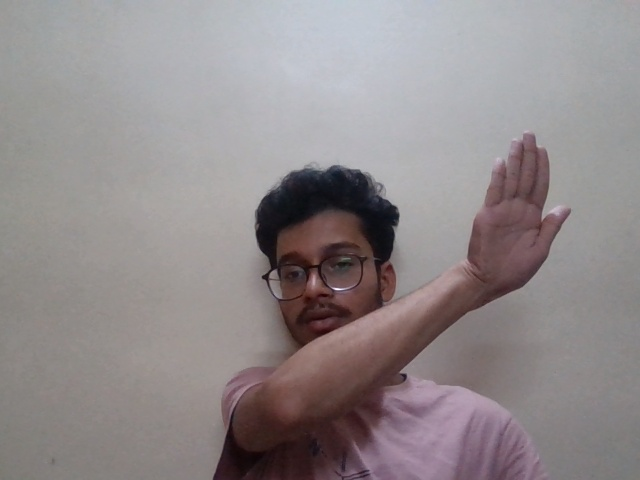hello: (446, 125, 586, 301)
